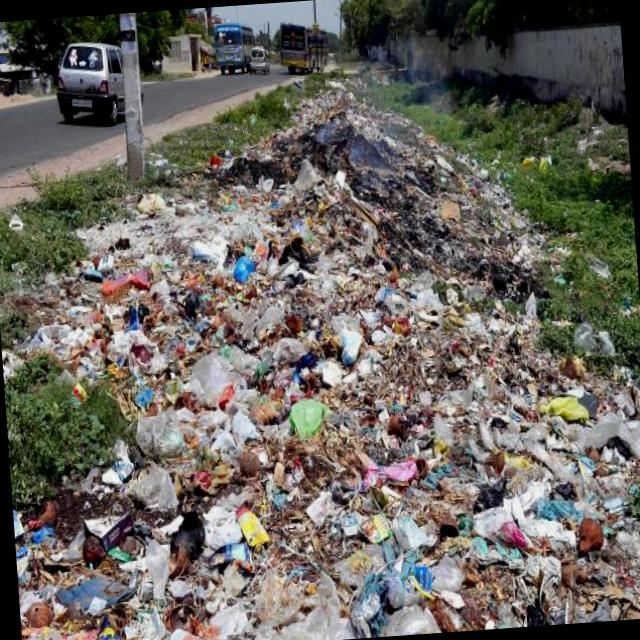garbage: (0, 197, 640, 640), (138, 86, 514, 238)
